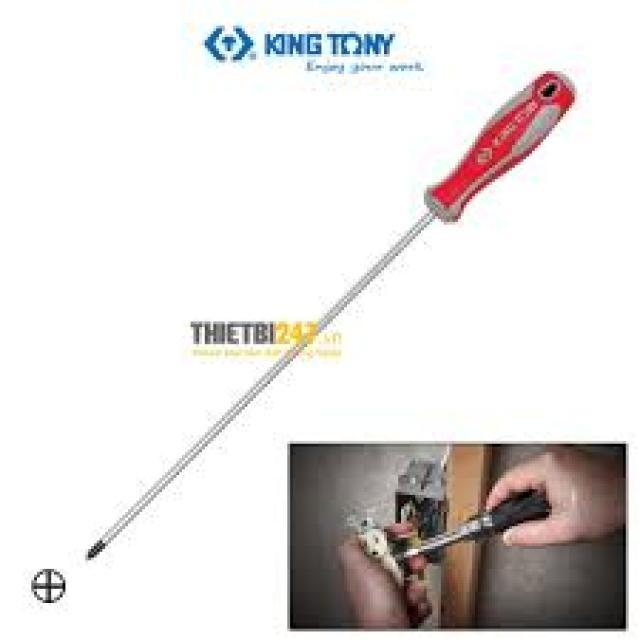screwdriver: (78, 67, 579, 564), (394, 482, 554, 576)
